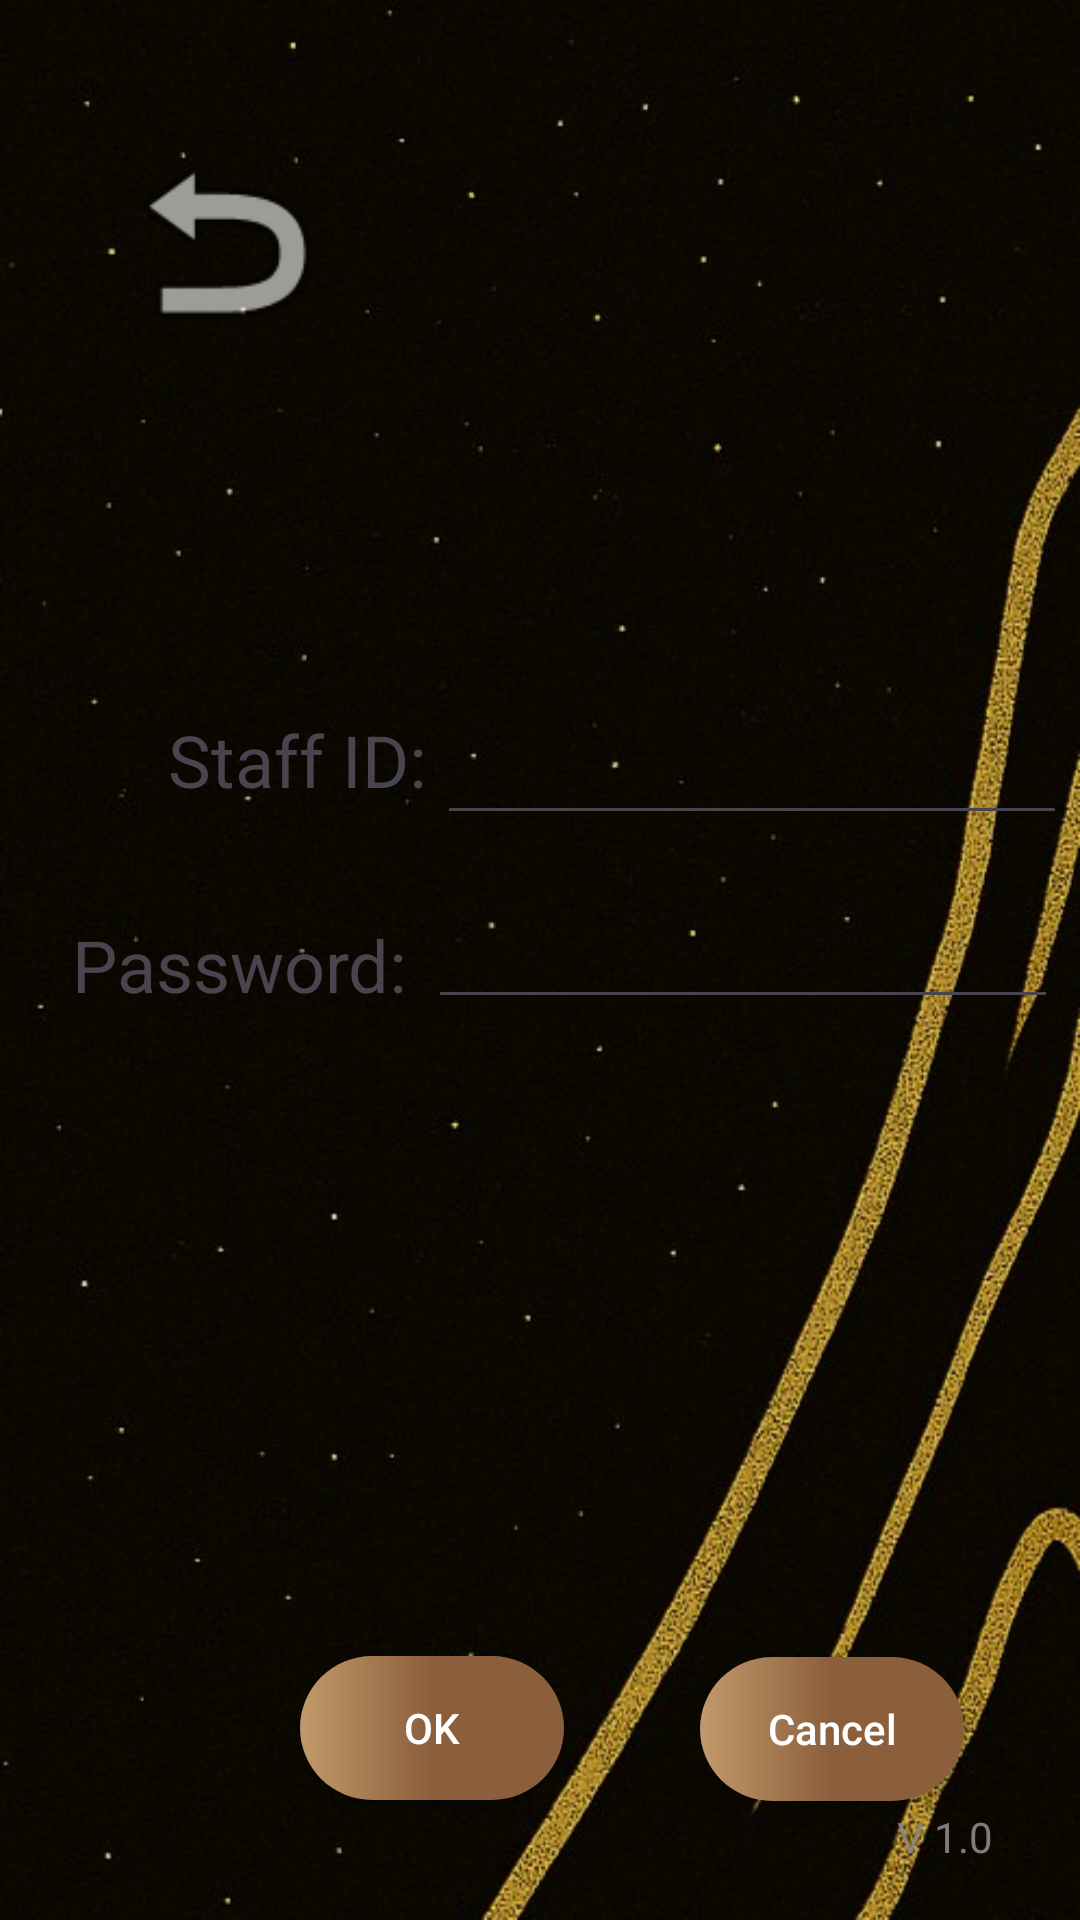

Icons on this 1080 × 1920 Android screen, each with its box as bbox=[x1, y1, x2, y2]:
revert: bbox=[108, 152, 306, 314]
